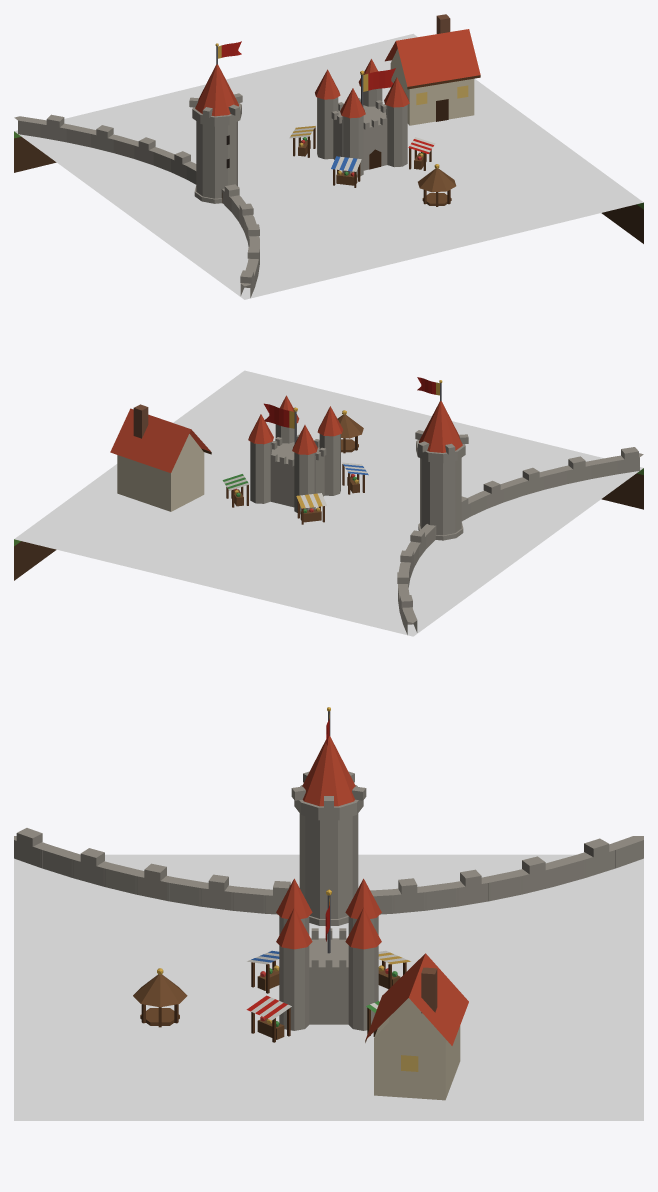
3 views of the same model, one above another, from view 1: azimuth 30°, elevation 25°; view 2: azimuth 150°, elevation 25°; view 3: azimuth 270°, elevation 25° (orthographic). The views are drawn at different scales.
Visible parts, largest first — view 1: c3; view 2: c3; view 3: c3.
Boxes of the visible parts, left/top/right/bottom form: c3: left=14, top=14, right=643, bottom=299; c3: left=14, top=370, right=643, bottom=636; c3: left=14, top=707, right=643, bottom=1120.
Size of the model in its own units: 2 by 0.9222 by 2.
